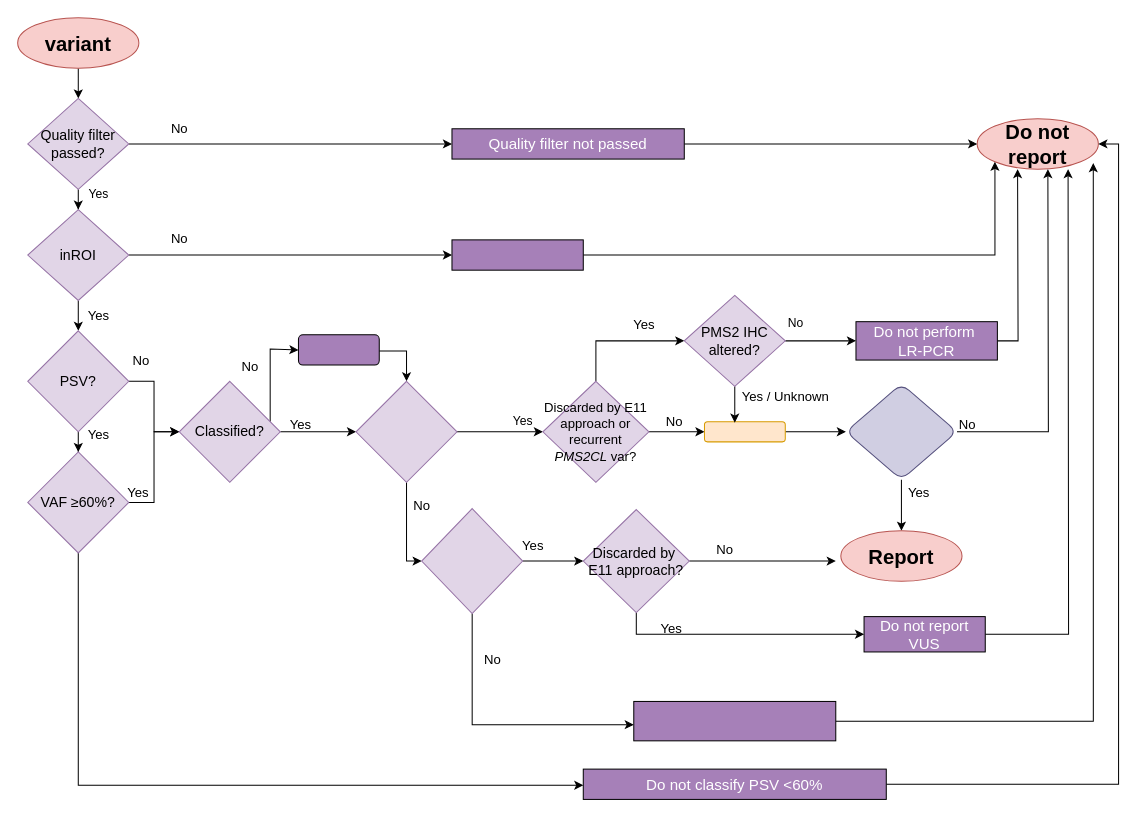
This 1144x817 diagram has some shape labels left out. The shapes that lost their labels are listed below. From the top down, each one's centre as x and y in pixels, then its label:
(517,254): Out of ROI
(338,349): Classify
(406,431): PAT or LPAT?
(744,431): LR-PCR
(901,431): Variant Confirmed in PMS2 ?
(472,561): VUS?
(734,720): Do not report BEN/LBEN variant
